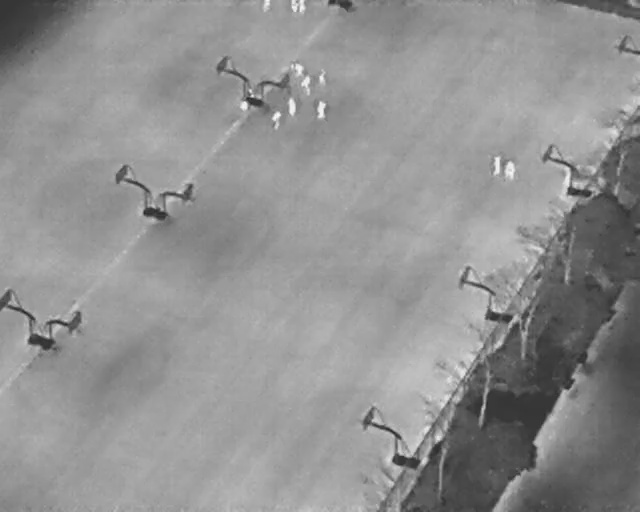Person: (286, 96, 298, 117), (505, 159, 515, 184), (316, 100, 327, 122), (271, 110, 282, 132), (491, 154, 501, 178), (291, 60, 304, 77), (301, 76, 312, 95), (316, 68, 327, 85), (238, 98, 249, 112), (290, 0, 298, 14), (261, 0, 271, 11), (298, 0, 307, 12)
